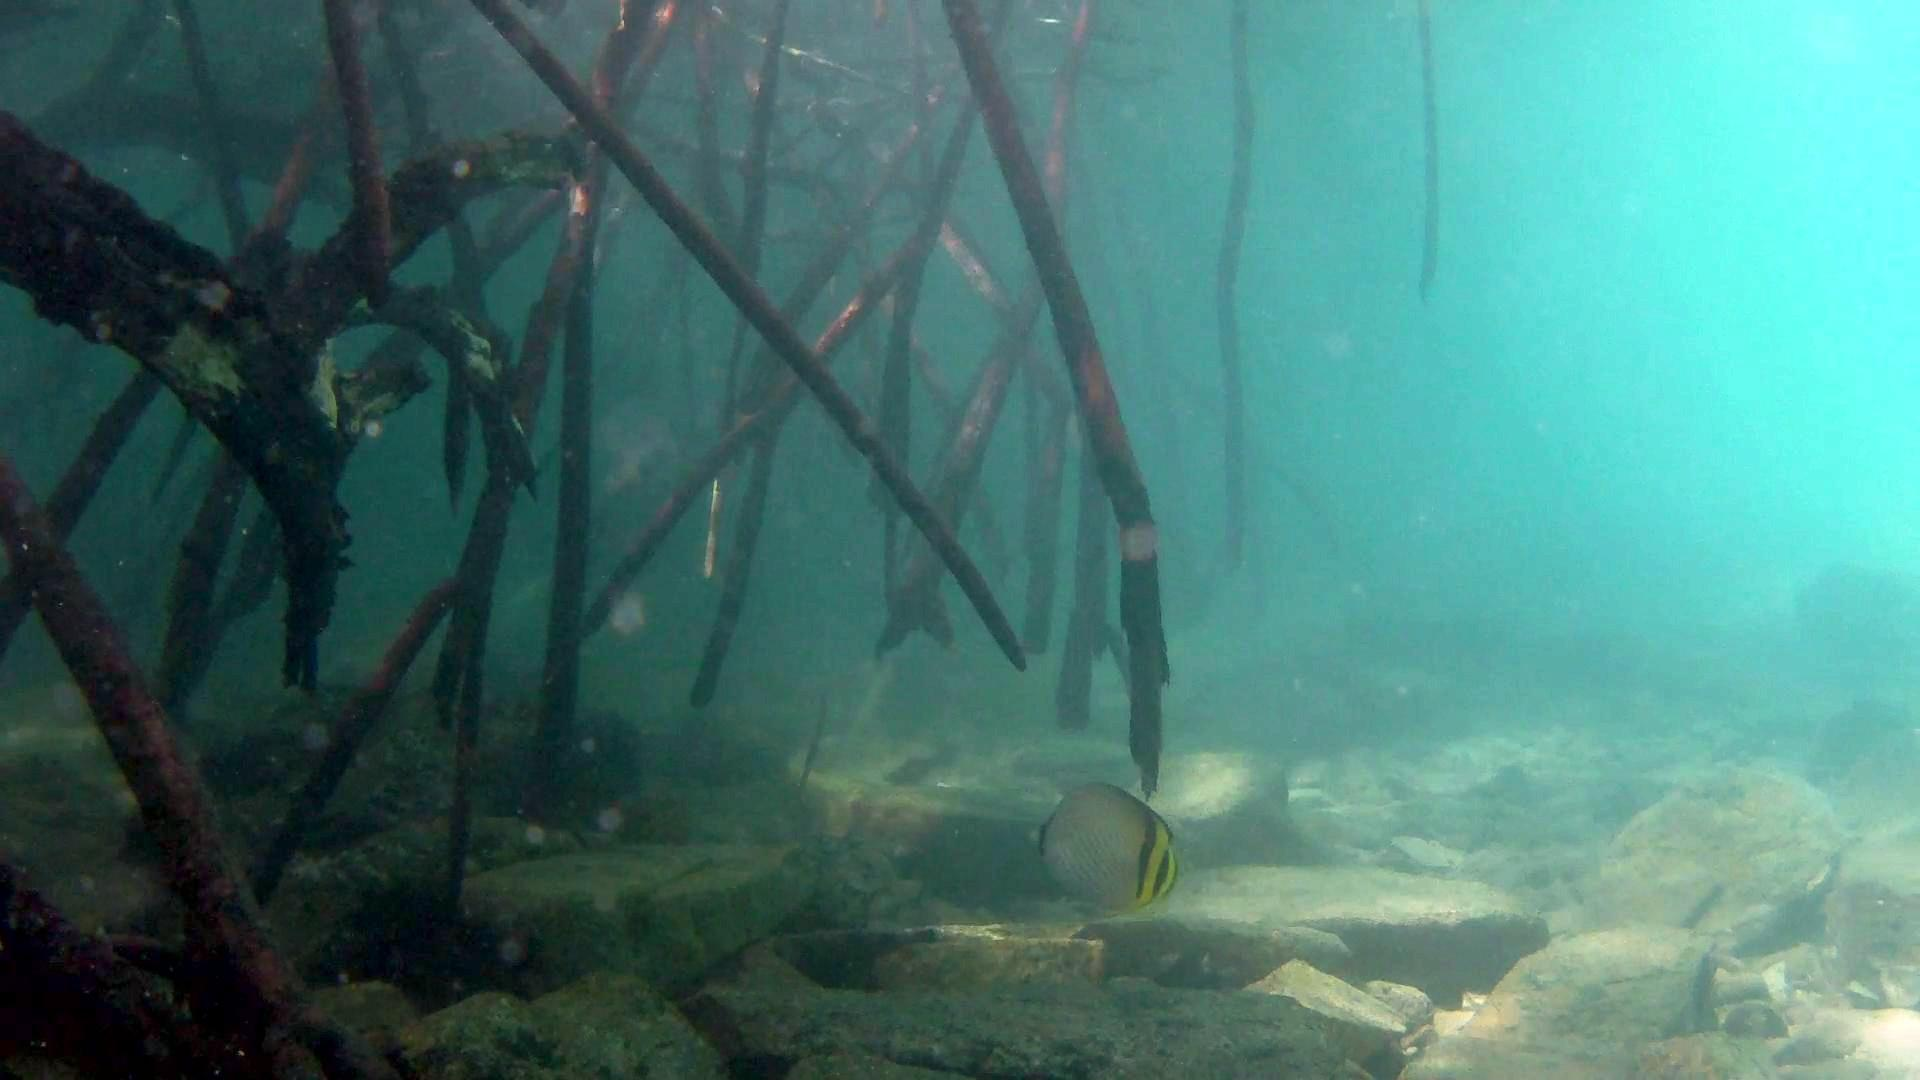chaetodon vagabundus: (1027, 781, 1182, 916)
